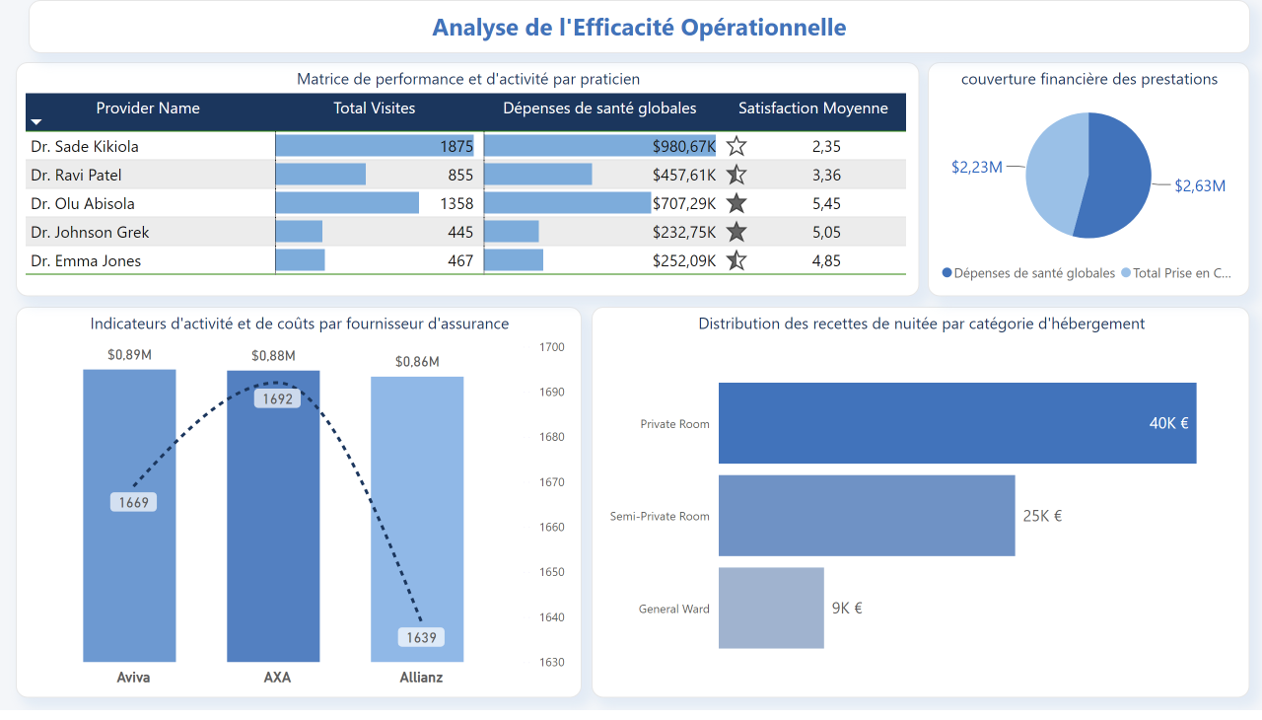

The page's visual inventory and layout, read from the dashboard file:
{"tool":"powerbi","page":{"name":"Efficacité Opérationnelle","canvas":[1280,720],"ordinal":2},"visuals":[{"type":"lineClusteredColumnComboChart","title":"Indicateurs d''activité et de coûts par fournisseur d''assurance","fields":{"Category":["insurance.Insurance Provider"],"Y":["_Mesures.Coût Total"],"Y2":["_Mesures.Total Visites"]},"box":[16.2,311.2,573.8,396.2],"z":0},{"type":"pivotTable","title":"Matrice de performance et d''activité par praticien","fields":{"Values":["_Mesures.Total Visites","_Mesures.Coût Total","_Mesures.Satisfaction Moyenne"],"Rows":["providers.Provider Name"]},"box":[16.2,62.5,916.2,237.5],"z":1000},{"type":"clusteredBarChart","title":"Distribution des recettes de nuitée par catégorie d''hébergement","fields":{"Category":["visits.Room Type"],"Y":["Sum(visits.Room Charges(daily rate))"]},"box":[600,311.2,667.5,396.2],"z":2000},{"type":"pieChart","title":"couverture financière des prestations","fields":{"Y":["_Mesures.Coût Total","_Mesures.Total Prise en Charge"]},"box":[941.2,62.5,326.2,237.5],"z":3000},{"type":"textbox","box":[28.8,0,1238.8,53.8],"z":4000}]}

Visuals, with their boxes in screenshot pixels (x1, y1, x2, y2), scaled from the page's 1280x720 canvas onto the 1262x720 screenshot:
"Indicateurs d''activité et de coûts par fournisseur d''assurance" lineClusteredColumnComboChart: <box>16,311,582,707</box>
"Matrice de performance et d''activité par praticien" pivotTable: <box>16,62,919,300</box>
"Distribution des recettes de nuitée par catégorie d''hébergement" clusteredBarChart: <box>592,311,1250,707</box>
"couverture financière des prestations" pieChart: <box>928,62,1250,300</box>
textbox: <box>28,0,1250,54</box>
